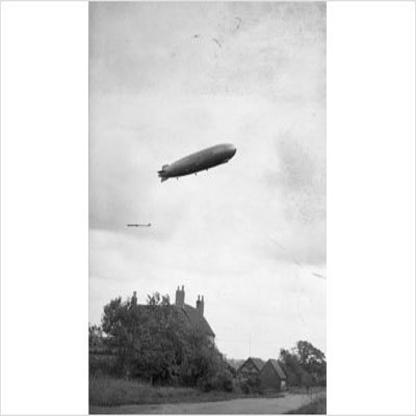Airship: (152, 139, 243, 190)
